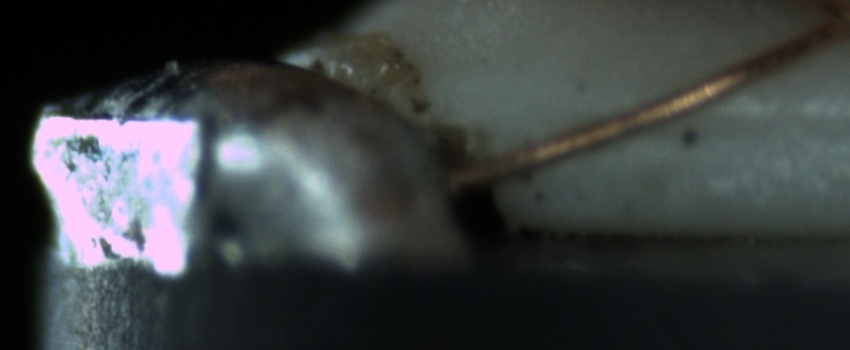DL: (631, 83, 850, 156)
